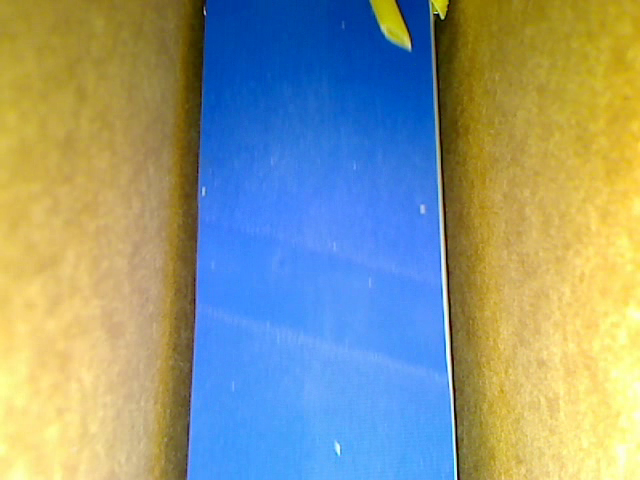penne: (369, 1, 412, 52)
